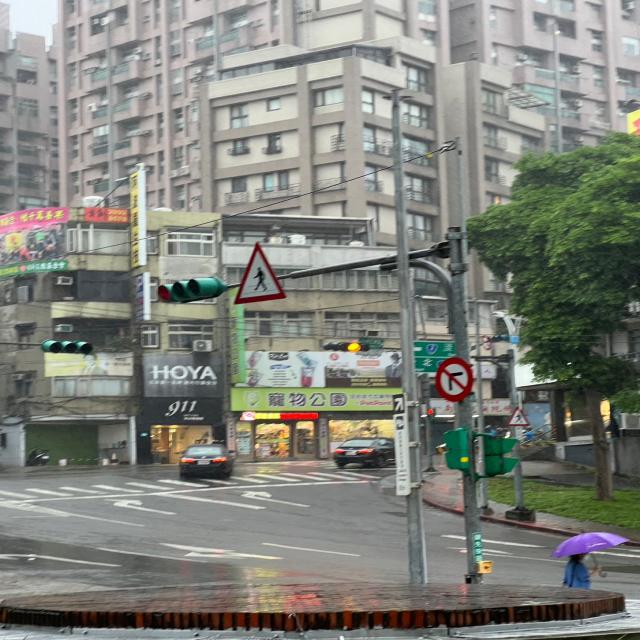yellow light: (324, 340, 372, 356)
